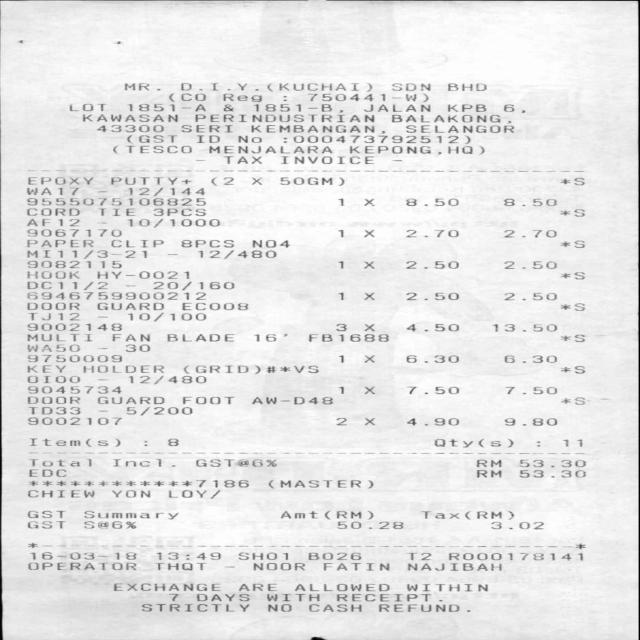text: (180, 82, 372, 92), (26, 480, 248, 488), (282, 135, 470, 144), (194, 114, 374, 122), (27, 292, 205, 300), (27, 198, 204, 206), (25, 249, 146, 259), (448, 552, 581, 561), (251, 125, 375, 134), (306, 93, 428, 102), (349, 146, 484, 154), (390, 114, 501, 123), (140, 603, 248, 612), (336, 593, 442, 602), (82, 510, 177, 520), (419, 510, 514, 520), (268, 479, 372, 488), (126, 218, 219, 228), (279, 510, 372, 520), (404, 125, 514, 133), (26, 562, 136, 570), (207, 146, 331, 153), (25, 228, 121, 237), (111, 583, 219, 591), (26, 354, 121, 363), (30, 552, 135, 560), (152, 281, 234, 291), (28, 438, 119, 447), (125, 312, 205, 322), (197, 249, 276, 259), (25, 260, 121, 268), (25, 323, 121, 331), (293, 584, 389, 592), (81, 114, 176, 122), (26, 386, 120, 394), (26, 417, 120, 425), (406, 563, 500, 571), (95, 271, 188, 279), (280, 156, 372, 164), (378, 604, 470, 612), (25, 281, 106, 290), (250, 396, 331, 405), (125, 103, 205, 112), (252, 104, 342, 112), (309, 333, 388, 342), (126, 187, 204, 196), (127, 375, 205, 384), (183, 365, 260, 374), (405, 584, 488, 592), (126, 406, 191, 416), (82, 365, 163, 373), (112, 146, 192, 154), (109, 177, 189, 185), (433, 439, 513, 447), (196, 459, 276, 467), (94, 124, 162, 133), (95, 302, 163, 311), (167, 333, 233, 342), (336, 521, 402, 530), (182, 302, 247, 311), (26, 333, 91, 342), (519, 469, 584, 478), (280, 177, 344, 186), (492, 323, 556, 332), (26, 177, 92, 185), (26, 240, 92, 248), (97, 396, 163, 404), (364, 104, 429, 112), (29, 459, 94, 467), (519, 460, 584, 468), (323, 562, 388, 570), (156, 552, 220, 560), (502, 198, 556, 207), (26, 406, 80, 415), (266, 593, 320, 602), (194, 593, 248, 602), (27, 490, 94, 497), (167, 490, 219, 499), (491, 521, 543, 530), (180, 124, 231, 133), (155, 562, 206, 571), (126, 134, 176, 143), (112, 458, 162, 467), (306, 552, 361, 560), (502, 230, 556, 238), (502, 261, 556, 269), (502, 292, 556, 300), (502, 355, 556, 363), (404, 418, 458, 426), (502, 418, 556, 426), (83, 521, 136, 529), (307, 604, 360, 612), (26, 187, 78, 195), (406, 198, 458, 206), (27, 208, 79, 216), (152, 208, 204, 216), (406, 229, 458, 237), (406, 261, 458, 269), (406, 292, 458, 300), (27, 312, 79, 320), (406, 324, 458, 332), (406, 355, 458, 363), (266, 365, 318, 373), (27, 375, 79, 383), (182, 396, 234, 404), (27, 396, 79, 404), (27, 218, 78, 226), (27, 271, 78, 279), (27, 302, 78, 310), (27, 344, 78, 352), (504, 386, 555, 394), (236, 552, 287, 560), (408, 386, 458, 394), (180, 240, 233, 247), (251, 563, 304, 570), (111, 240, 163, 247), (221, 93, 261, 102), (167, 93, 205, 102), (110, 333, 148, 342), (26, 510, 65, 518), (26, 521, 65, 529), (391, 83, 429, 91), (448, 83, 486, 91), (68, 103, 106, 111), (448, 104, 486, 112), (222, 156, 260, 164), (250, 240, 288, 248), (238, 583, 276, 591), (28, 469, 65, 477), (123, 82, 159, 90), (98, 208, 134, 216), (26, 365, 66, 372), (110, 490, 148, 497), (265, 603, 290, 612), (253, 333, 277, 342), (476, 469, 500, 478), (124, 344, 150, 352), (210, 177, 233, 186), (560, 366, 585, 374), (408, 552, 430, 561), (237, 135, 261, 143), (560, 208, 584, 216), (560, 240, 584, 248), (560, 272, 584, 280), (560, 303, 584, 311), (560, 334, 584, 342), (560, 396, 584, 404), (476, 459, 500, 467), (196, 135, 219, 143), (560, 178, 584, 185), (563, 439, 582, 446), (362, 354, 375, 364), (335, 417, 347, 426), (502, 104, 515, 112), (363, 417, 374, 426), (362, 198, 374, 206), (336, 323, 346, 332), (363, 229, 374, 237), (363, 292, 374, 300), (363, 324, 374, 332), (363, 386, 374, 394), (222, 104, 234, 111), (364, 261, 374, 269), (168, 438, 178, 446), (168, 593, 178, 601), (251, 177, 260, 185), (338, 354, 344, 364), (338, 198, 344, 207), (338, 229, 344, 238), (338, 292, 344, 300), (338, 386, 344, 394), (338, 260, 343, 268)
